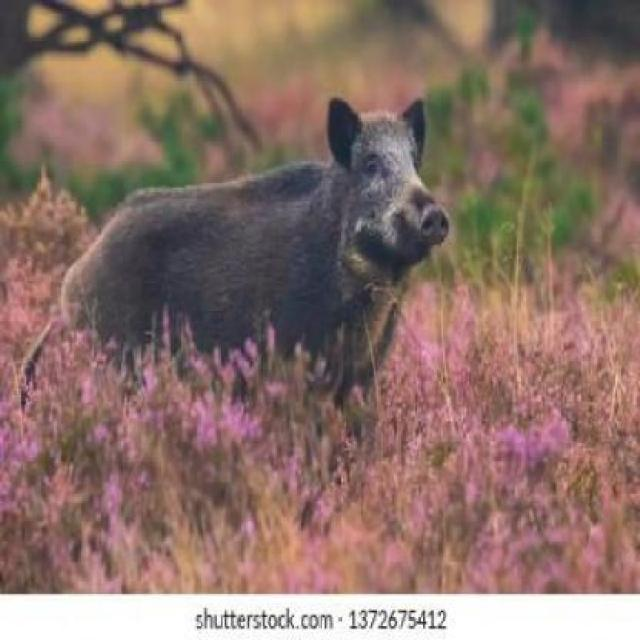wildboar: (14, 94, 455, 448)
